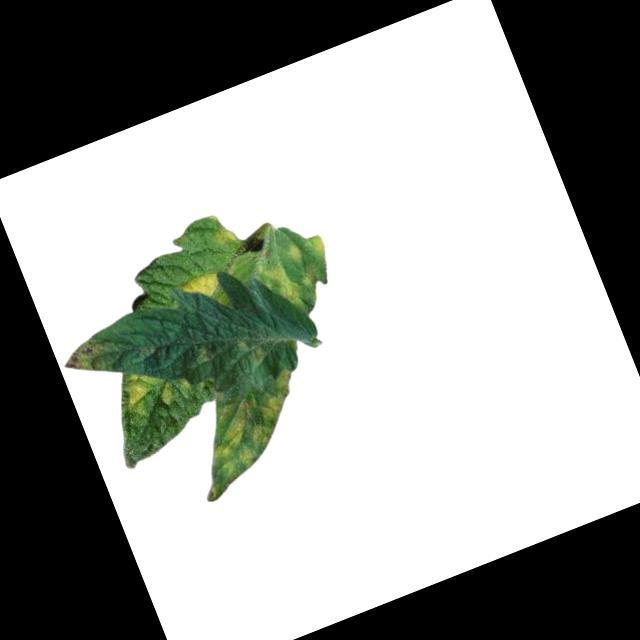Leaf_Mold: (175, 366, 329, 508), (255, 242, 320, 314), (57, 333, 114, 381), (177, 266, 229, 307), (121, 369, 161, 418), (212, 223, 240, 253), (307, 232, 331, 266)
